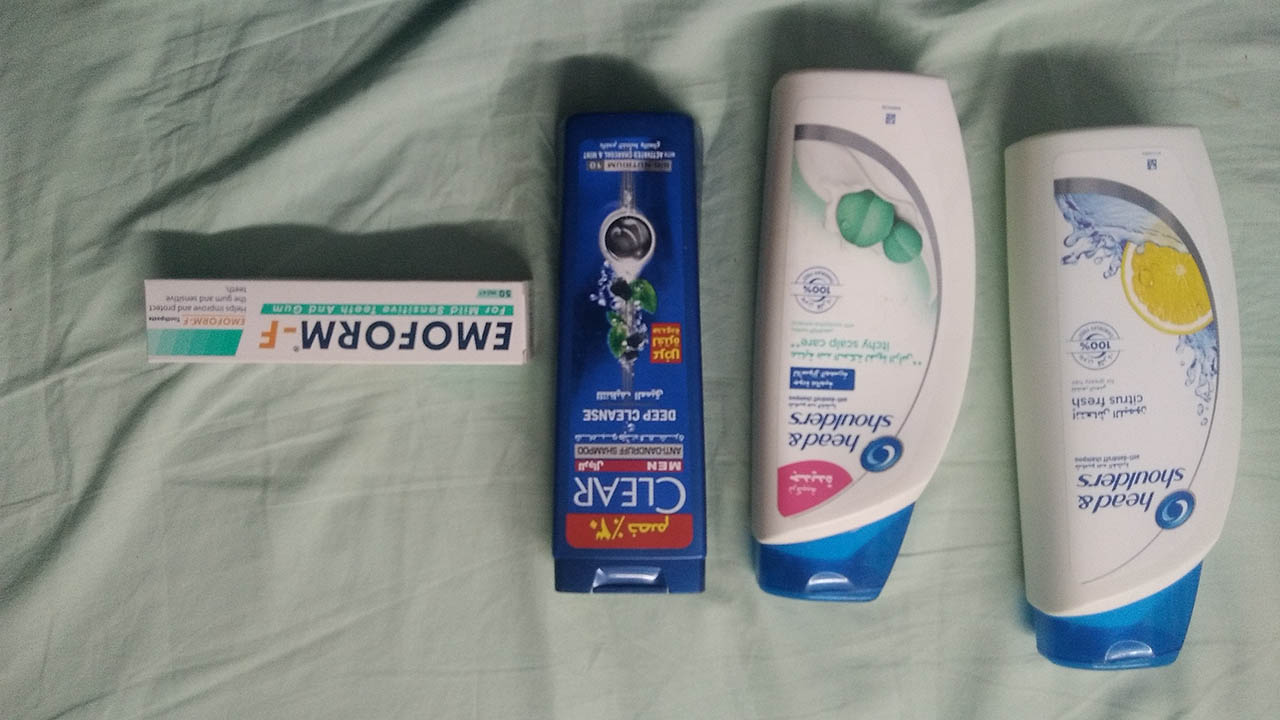Shampoo-Clear 4.7$: (549, 106, 711, 606)
Toothpaste-F 1.5$: (138, 276, 534, 375)
shampoo-Lemon 3.5$: (999, 128, 1230, 683)
shampoo-green 4.5$: (751, 60, 968, 622)
